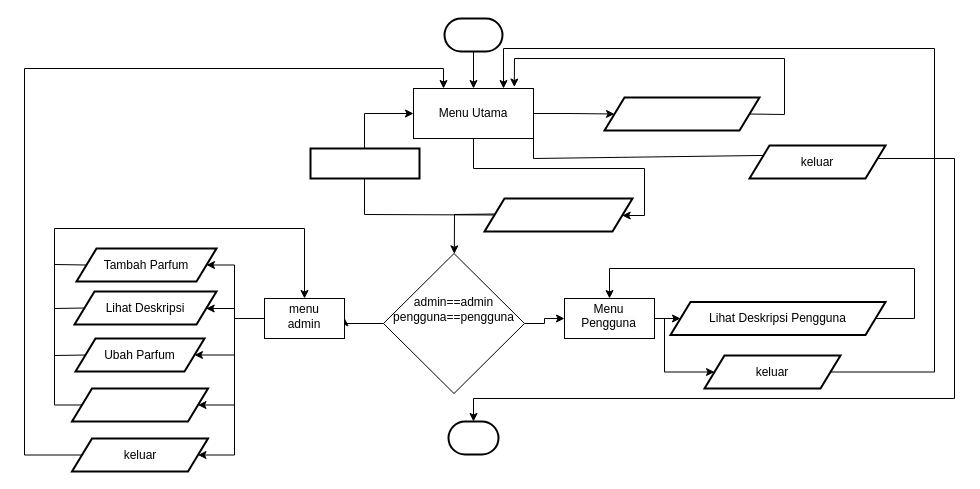
Some shapes in this 980 by 489 pixel diagram are drawn without their labels. The centre of each missing label's shape, as x and y in pixels:
"Daftar Pengguna" goes at (x=681, y=113).
"End" goes at (x=473, y=437).
"Gagal Masuk" goes at (x=364, y=163).
"Hapus Parfum" goes at (x=139, y=404).
"Login Pengguna" goes at (x=558, y=214).
"Start" goes at (x=473, y=34).
